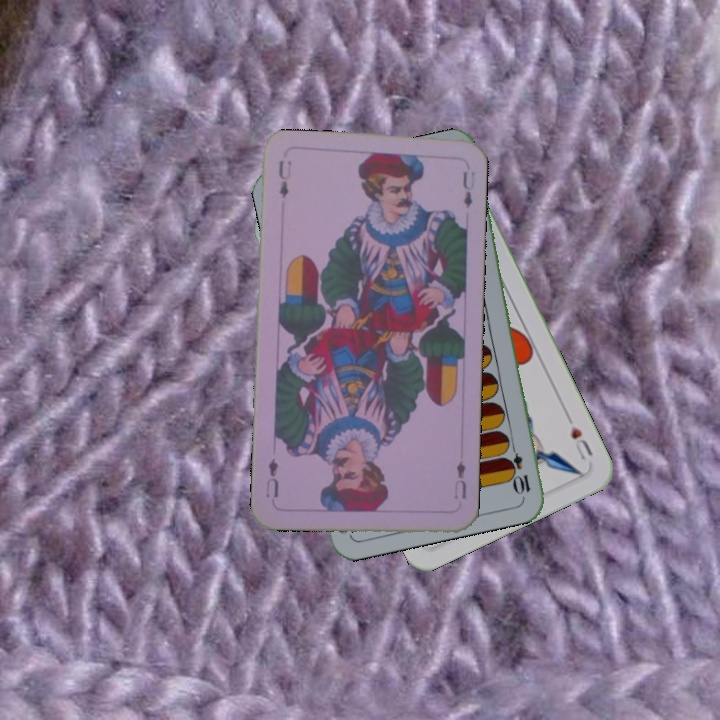E10: (505, 438, 533, 497)
EU: (450, 456, 469, 502), (275, 156, 293, 201)
HU: (567, 422, 595, 463)
